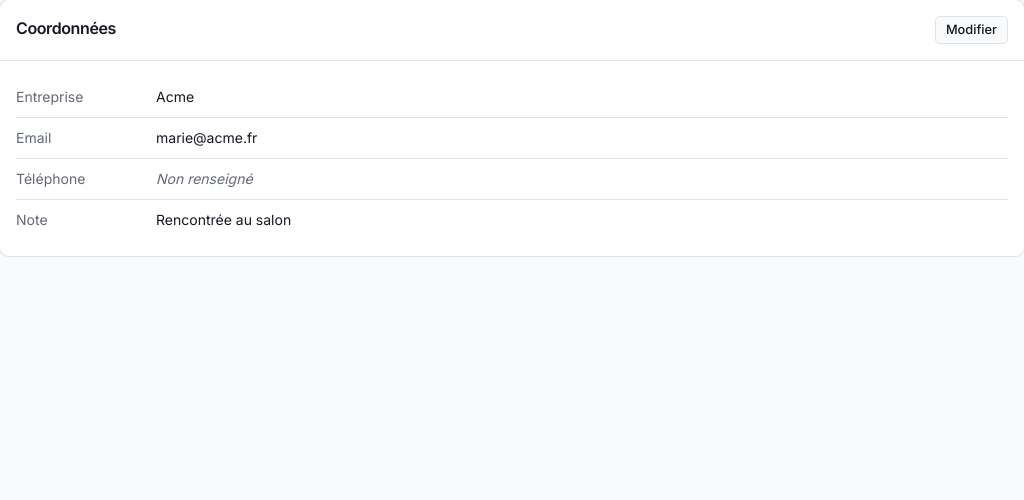
Scenario: ContactCoordinates › garde le formulaire ouvert avec l'erreur quand l'enregistrement est refusé
This screenshot has width=1024, height=500.
Click the button "Modifier" at {"x": 971, "y": 30}, box [935,16,1008,44]
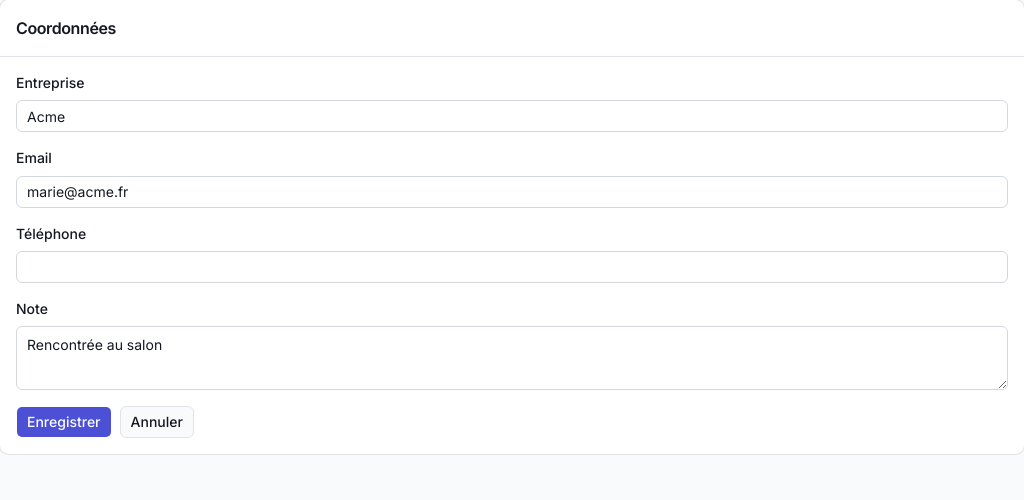
Click the button "Enregistrer" at {"x": 64, "y": 422}, box [16,406,112,438]
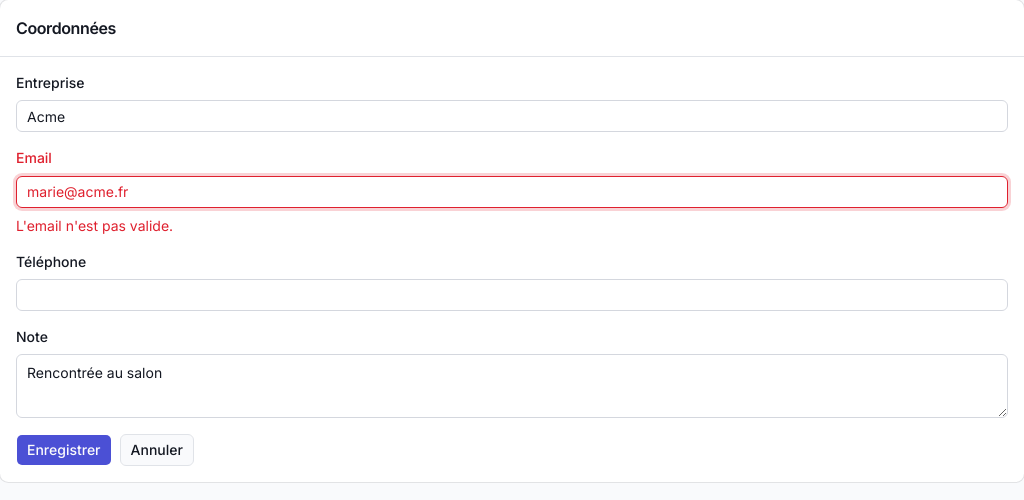
Expected: the field labelled "Email" is shown, [16,176,1008,208]
Expected: the message reads "L'email n'est pas valide.", [16,216,173,234]
